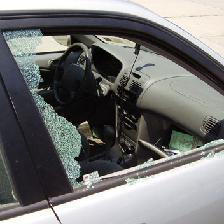glass_shatter: (2, 18, 217, 170)
